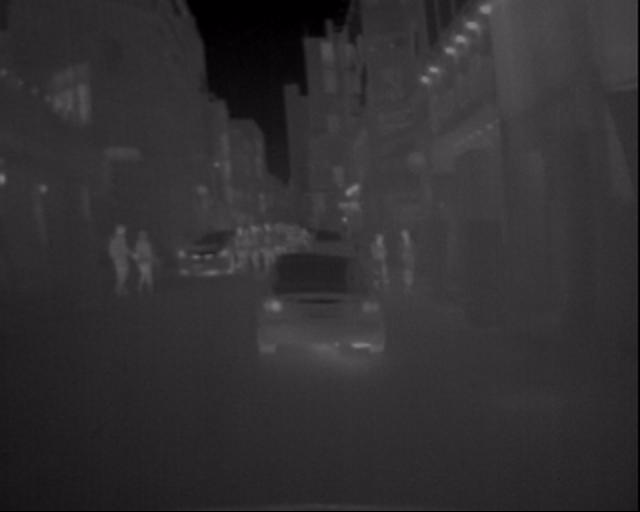person: (102, 229, 127, 298), (131, 231, 160, 290), (397, 230, 418, 290), (268, 217, 304, 252), (231, 224, 251, 284), (369, 231, 391, 281)
